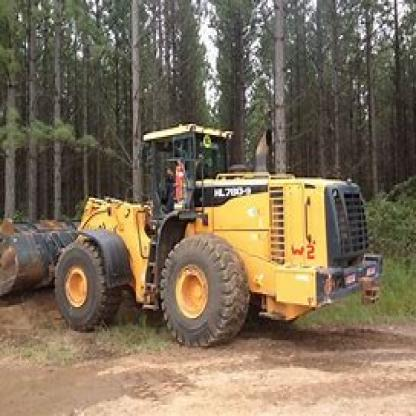bull_dozer/loader/grader: (3, 111, 393, 348)
